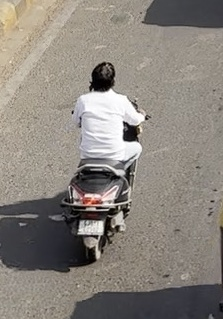BikeWithRider: (54, 58, 154, 267)
NoHelmet: (87, 58, 118, 95)
